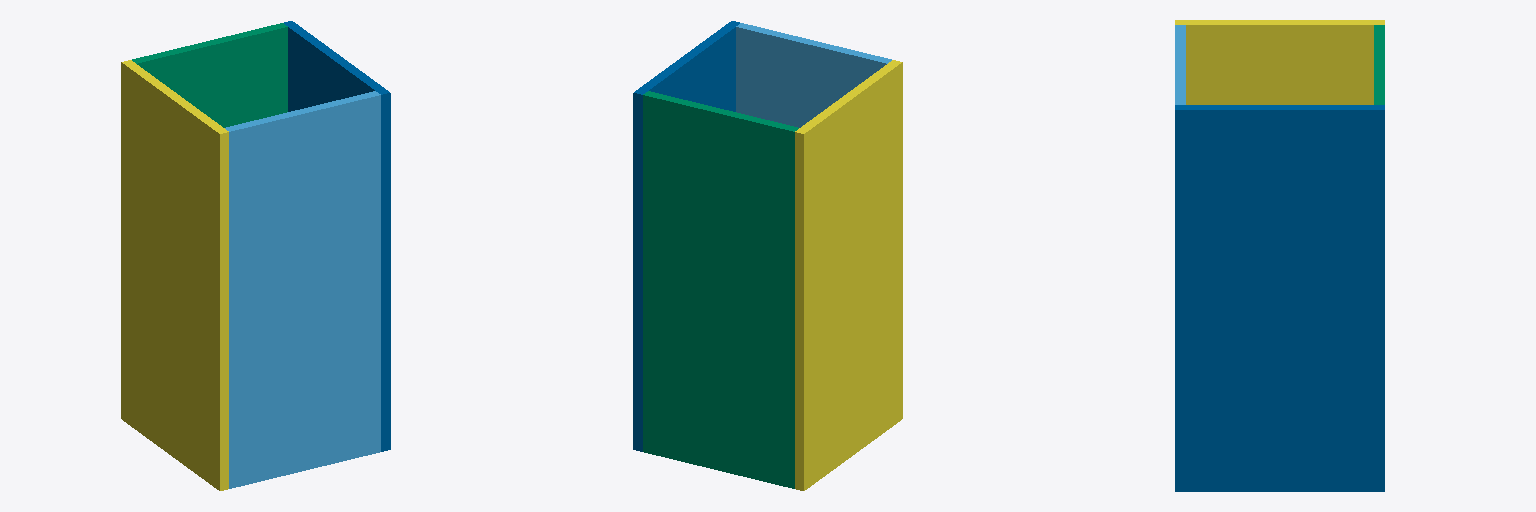
URDF robot description (cup_model):
<robot name="cup_model">
  <material name="Glass">
    <color rgba="0.698, 0.706, 0.702, 0.4"/>
  </material>

  <link name="drawer_bottom_plate1">
    <inertial>
      <mass value="0.05" />
      <origin xyz="0 0 0.0" />
      <inertia  ixx="0.01" ixy="0.0"  ixz="0.0"  iyy="0.01"  iyz="0.0"  izz="0.01" />
    </inertial>
    <visual>
      <origin xyz="0 0 0" rpy="0 0 0" />
      <geometry>
        <box size="0.08 0.08 0.005"/>
      </geometry>
      <material name="Glass"/>
    </visual>
    <collision>
      <origin xyz="0 0 0" rpy="0 0 0" />
      <geometry>
        <box size="0.08 0.08 0.005"/>
      </geometry>
    </collision>
    <contact>
      <restitution value="0.7"/>
      <lateral_friction value="0.5"/>
      <rolling_friction value="0.1"/>
      <spinning_friction value="9.119138030817657e-08"/>
    </contact>
  </link>
  <link name="drawer_left_plate1">
    <inertial>
      <mass value="0.05" />
      <origin xyz="0 0 0.0" />
      <inertia  ixx="0.01" ixy="0.0"  ixz="0.0"  iyy="0.01"  iyz="0.0"  izz="0.01" />
    </inertial>
    <visual>
      <origin xyz="0 -0.0425 0.0875" rpy="0 0 0" />
      <geometry>
        <box size="0.08 0.005 0.18"/>
      </geometry>
      <material name="Glass"/>
    </visual>
    <collision>
      <origin xyz="0 -0.0425 0.0875" rpy="0 0 0" />
      <geometry>
        <box size="0.08 0.005 0.18"/>
      </geometry>
    </collision>
    <contact>
      <restitution value="0.7"/>
      <lateral_friction value="0.5"/>
      <rolling_friction value="0.1"/>
      <spinning_friction value="9.119138030817657e-08"/>
    </contact>
  </link>
  <link name="drawer_right_plate1">
    <inertial>
      <mass value="0.05" />
      <origin xyz="0 0 0.0" />
      <inertia  ixx="0.01" ixy="0.0"  ixz="0.0"  iyy="0.01"  iyz="0.0"  izz="0.01" />
    </inertial>
    <visual>
      <origin xyz="0 0.0425 0.0875" rpy="0 0 0" />
      <geometry>
        <box size="0.08 0.005 0.18"/>
      </geometry>
      <material name="Glass"/>
    </visual>
    <collision>
      <origin xyz="0 0.0425 0.0875" rpy="0 0 0" />
      <geometry>
        <box size="0.08 0.005 0.18"/>
      </geometry>
    </collision>
    <contact>
      <restitution value="0.7"/>
      <lateral_friction value="0.5"/>
      <rolling_friction value="0.1"/>
      <spinning_friction value="9.119138030817657e-08"/>
    </contact>
  </link>
  <link name="drawer_back_plate1">
    <inertial>
      <mass value="0.05" />
      <origin xyz="0 0 0.0" />
      <inertia  ixx="0.01" ixy="0.0"  ixz="0.0"  iyy="0.01"  iyz="0.0"  izz="0.01" />
    </inertial>
    <visual>
      <origin xyz="-0.0425 0 0.0875" rpy="0 0 0" />
      <geometry>
        <box size="0.005 0.09 0.18"/>
      </geometry>
      <material name="Glass"/>
    </visual>
    <collision>
      <origin xyz="-0.0425 0 0.0875" rpy="0 0 0" />
      <geometry>
        <box size="0.005 0.09 0.18"/>
      </geometry>
    </collision>
    <contact>
      <restitution value="0.7"/>
      <lateral_friction value="0.5"/>
      <rolling_friction value="0.1"/>
      <spinning_friction value="9.119138030817657e-08"/>
    </contact>
  </link>
  <link name="drawer_front_plate1">
    <inertial>
      <mass value="0.05" />
      <origin xyz="0 0 0.0" />
      <inertia  ixx="0.01" ixy="0.0"  ixz="0.0"  iyy="0.01"  iyz="0.0"  izz="0.01" />
    </inertial>
    <visual>
      <origin xyz="0.0425 0 0.0875" rpy="0 0 0" />
      <geometry>
        <box size="0.005 0.09 0.18"/>
      </geometry>
      <material name="Glass"/>
    </visual>
    <collision>
      <origin xyz="0.0425 0 0.0875" rpy="0 0 0" />
      <geometry>
        <box size="0.005 0.09 0.18"/>
      </geometry>
    </collision>
    <contact>
      <restitution value="0.7"/>
      <lateral_friction value="0.5"/>
      <rolling_friction value="0.1"/>
      <spinning_friction value="9.119138030817657e-08"/>
    </contact>
  </link>

  <joint name="drawer_left1" type="fixed">
    <parent link="drawer_bottom_plate1"/>
    <child link="drawer_left_plate1"/>
    <origin xyz="0 0 0"/>
  </joint>
  <joint name="drawer_right1" type="fixed">
    <parent link="drawer_bottom_plate1"/>
    <child link="drawer_right_plate1"/>
    <origin xyz="0 0 0"/>
  </joint>
  <joint name="drawer_back1" type="fixed">
    <parent link="drawer_bottom_plate1"/>
    <child link="drawer_back_plate1"/>
    <origin xyz="0 0 0"/>
  </joint>
  <joint name="drawer_front1" type="fixed">
    <parent link="drawer_bottom_plate1"/>
    <child link="drawer_front_plate1"/>
    <origin xyz="0 0 0"/>
  </joint>

</robot>

--- Facts derived from the render (not from the file) ---
The picture shows the robot from 3 angles, left to right: view 1: azimuth 30°, elevation 25°; view 2: azimuth 150°, elevation 25°; view 3: azimuth 270°, elevation 25°; orthographic projection.
Model cup_model with 5 links and 4 joints (4 fixed), rooted at drawer_bottom_plate1, posed every joint at zero.
Visible links, largest first — view 1: drawer_left_plate1, drawer_back_plate1, drawer_right_plate1, drawer_front_plate1; view 2: drawer_right_plate1, drawer_back_plate1, drawer_left_plate1, drawer_front_plate1; view 3: drawer_front_plate1, drawer_back_plate1, drawer_left_plate1, drawer_right_plate1.
Boxes of the visible links, bbox=[...] form: drawer_left_plate1: bbox=[225, 91, 380, 488]; drawer_back_plate1: bbox=[121, 60, 228, 490]; drawer_right_plate1: bbox=[132, 23, 287, 127]; drawer_front_plate1: bbox=[284, 21, 390, 451]; drawer_right_plate1: bbox=[643, 91, 798, 488]; drawer_back_plate1: bbox=[795, 60, 902, 490]; drawer_left_plate1: bbox=[736, 23, 891, 127]; drawer_front_plate1: bbox=[633, 21, 739, 451]; drawer_front_plate1: bbox=[1175, 105, 1384, 491]; drawer_back_plate1: bbox=[1175, 20, 1384, 104]; drawer_left_plate1: bbox=[1175, 25, 1185, 104]; drawer_right_plate1: bbox=[1374, 25, 1384, 104].
Bounding box of the posed robot: 0.09 × 0.09 × 0.18 m (x, y, z).
Geometry: primitives only (box / cylinder / sphere), no mesh files.
